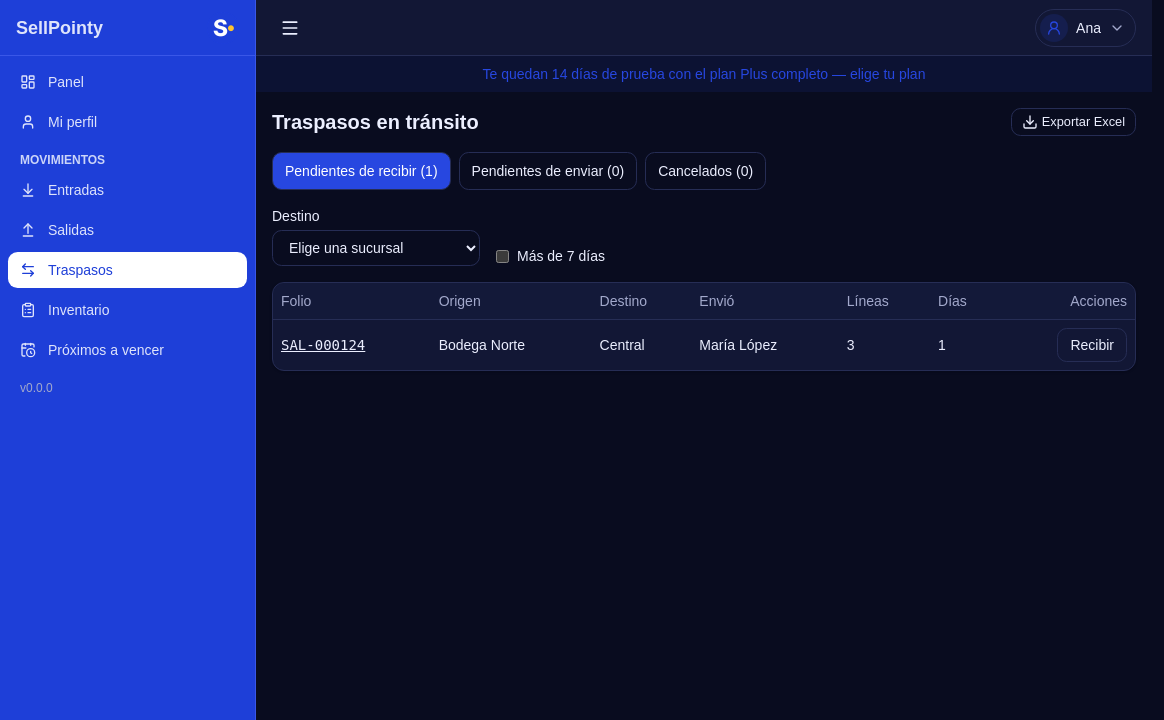
Test: los filtros de la pestaña Cancelados › ofrece folio, sucursal, desde y hasta; «Destino» solo vive en lo pendiente
The width and height of the screenshot is (1164, 720).
Click the tab "Cancelados (0)".
click(706, 171)  # box [645,152,766,190]
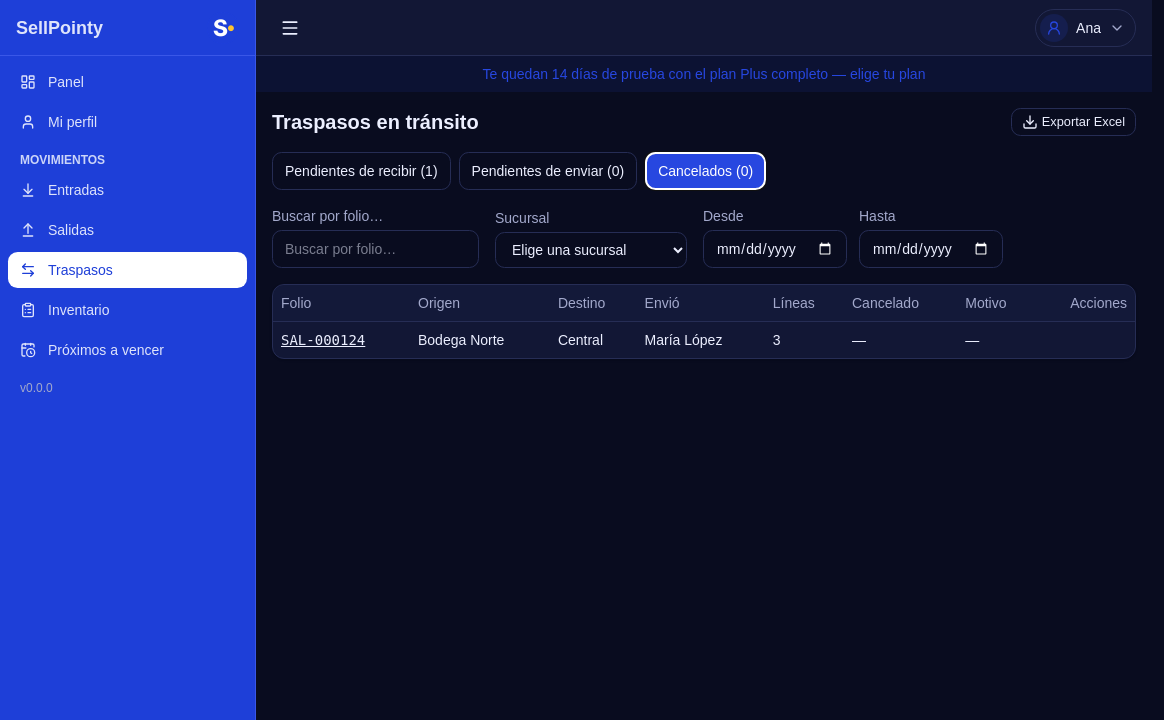
expect the search field labelled "Buscar por folio…" is shown: met, box [272,230,479,268]
expect the dropdown labelled "Sucursal" is shown: met, box [495,232,687,268]
expect the date field labelled "Desde" is shown: met, box [703,230,847,268]
